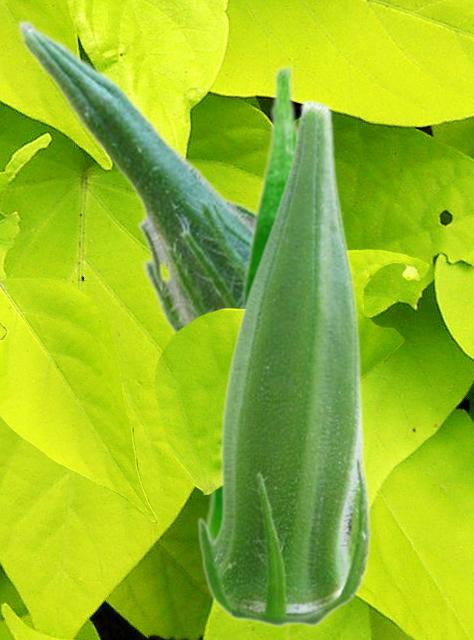okra: (16, 18, 363, 390), (196, 98, 371, 627), (204, 62, 299, 538)
